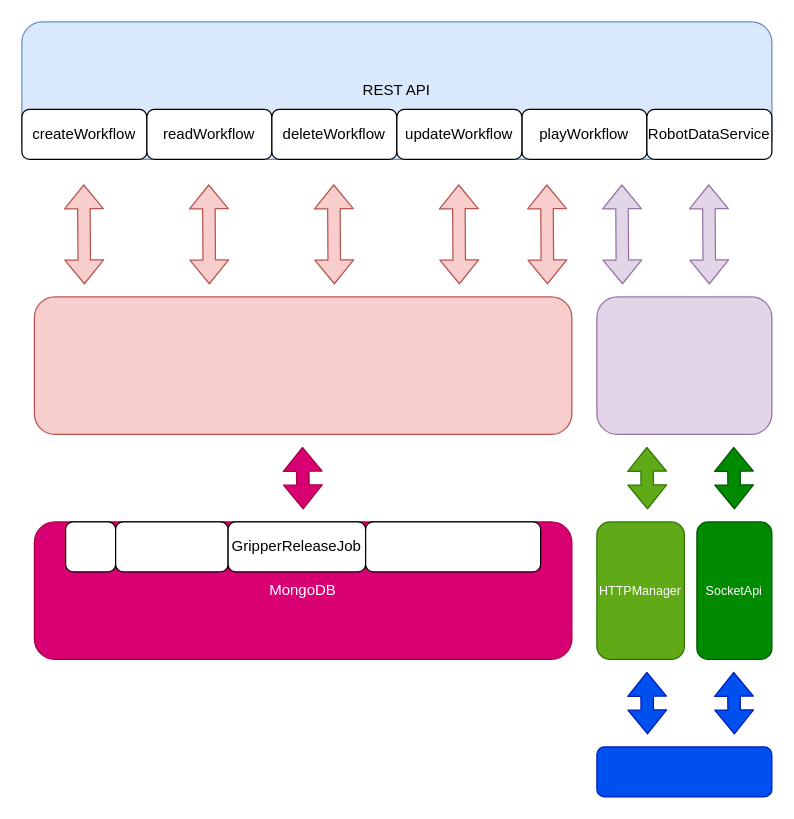
Image size: 794x819. Some labels were removed from this diagram. The shapes that lost their labels are listed below. From the top down, each one's centre as x and y in pixels, then its label:
At pixel 302 365: "DBManager".
At pixel 684 365: "ChimeraManager".
At pixel 90 546: "IJob".
At pixel 171 546: "GripperGripJob".
At pixel 452 546: "MoveArmCartesianJob".
At pixel 684 771: "Chimera".
